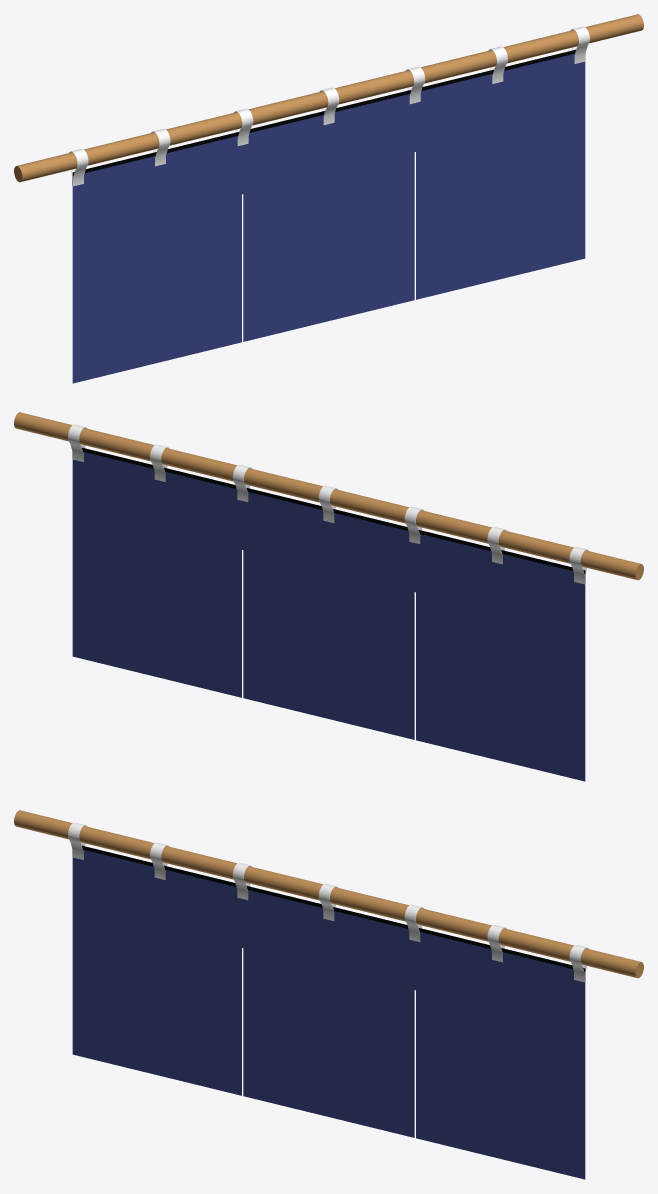
The model's file is Noren.FBX.
3 views of the same model, one above another, from view 1: azimuth 30°, elevation 25°; view 2: azimuth 150°, elevation 25°; view 3: azimuth 330°, elevation 25° (orthographic).
Visible parts, largest first — view 1: noren; view 2: noren; view 3: noren.
Boxes of the visible parts, box(x1,y1,x2,y2) form: noren: box(14, 14, 643, 383); noren: box(14, 412, 643, 781); noren: box(14, 810, 643, 1179).
Bounding box in the file's own units: 2.06 × 0.7326 × 0.055.
